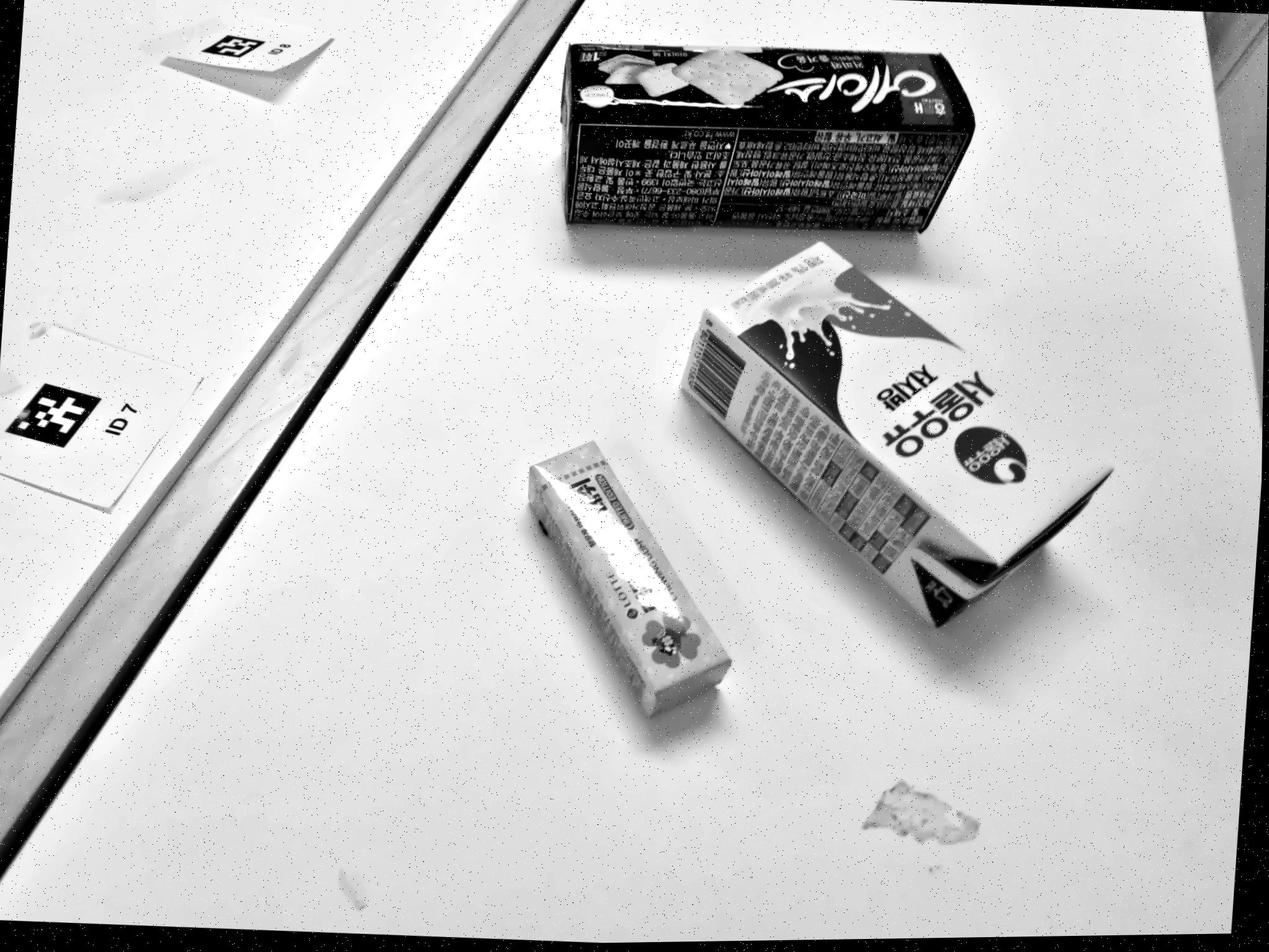cracker_ace: (561, 44, 974, 231)
gum_yellow: (528, 441, 731, 715)
milk_blue: (682, 242, 1112, 626)
